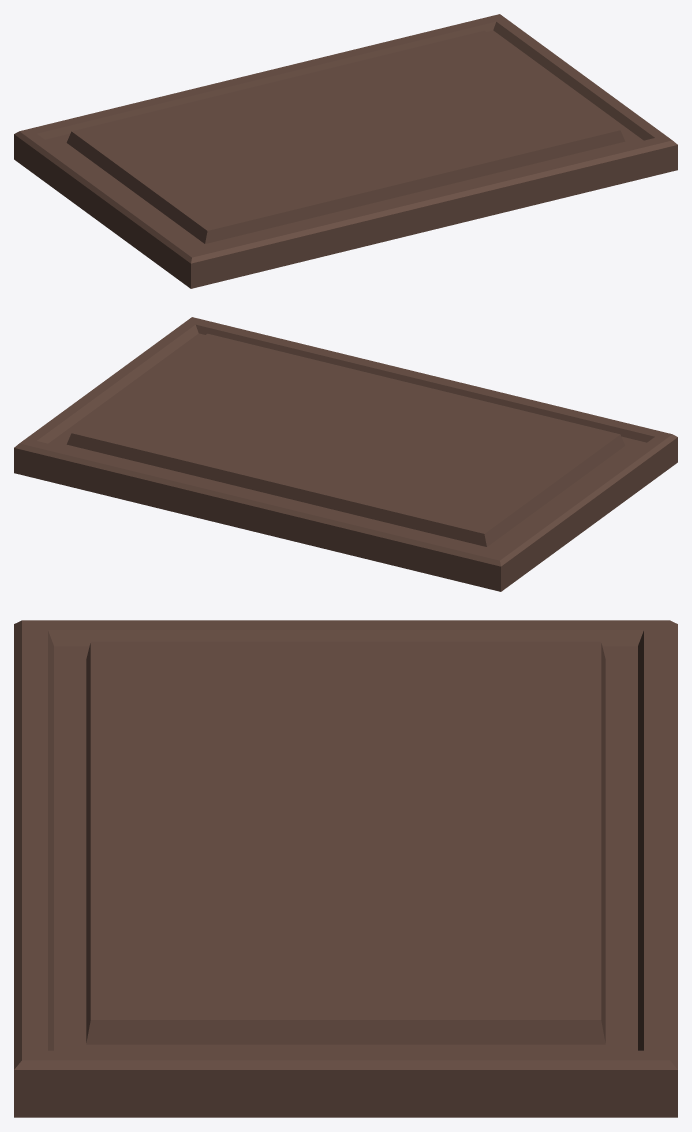
Rendered from cuttingBoard01.fbx.
3 renders of one model, top to bottom at view 1: azimuth 30°, elevation 25°; view 2: azimuth 150°, elevation 25°; view 3: azimuth 270°, elevation 25°, orthographic. The views are drawn at different scales.
Parts seen in each view (by area): view 1: cuttingBoard01; view 2: cuttingBoard01; view 3: cuttingBoard01.
Part boxes in pixels (x1,y1,x2,y2): cuttingBoard01: (14,14,677,288); cuttingBoard01: (14,317,677,591); cuttingBoard01: (14,620,677,1117).
Size of the model in its own units: 71.47 by 4.77 by 44.97.
1 material, 1 textured.
